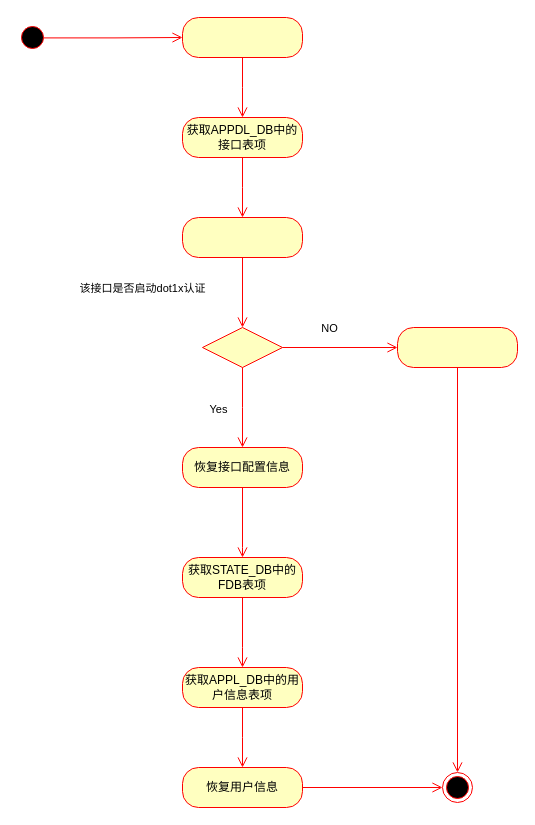
The diagram is 535 pixels wide and 825 high, and some of its shapes have lost their labels. Each missing label, with the box of its shape:
删除接口配置文件: (396, 326, 518, 368)
连接Redis数据库: (182, 16, 302, 58)
遍历接口配置文件: (182, 216, 302, 258)
